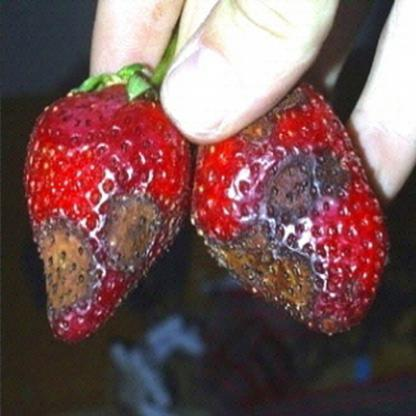Strawberry_Anthracnose_Fruit_Rot: (190, 81, 376, 338), (29, 159, 182, 339)
